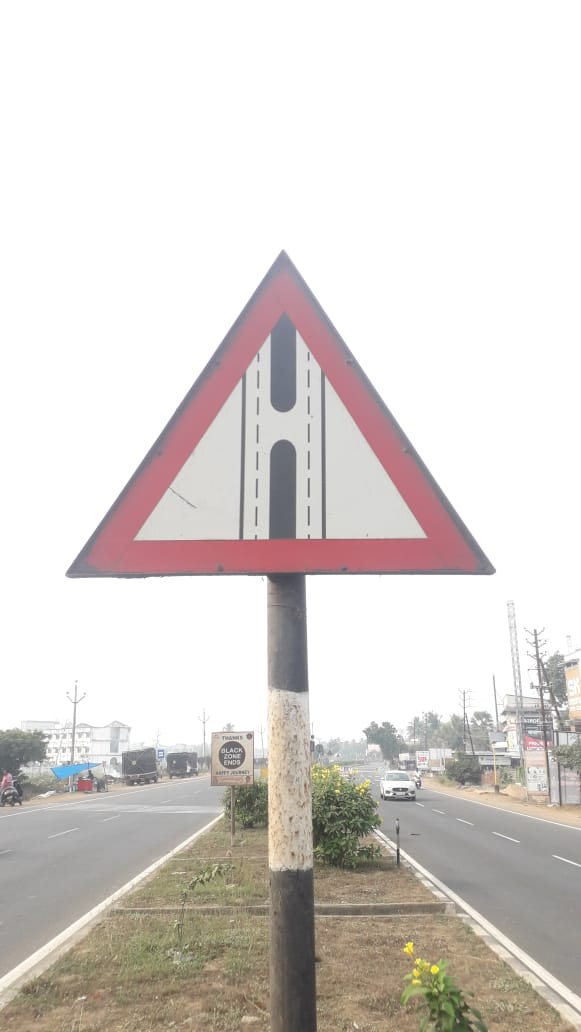highway go straight: (44, 236, 555, 617)
